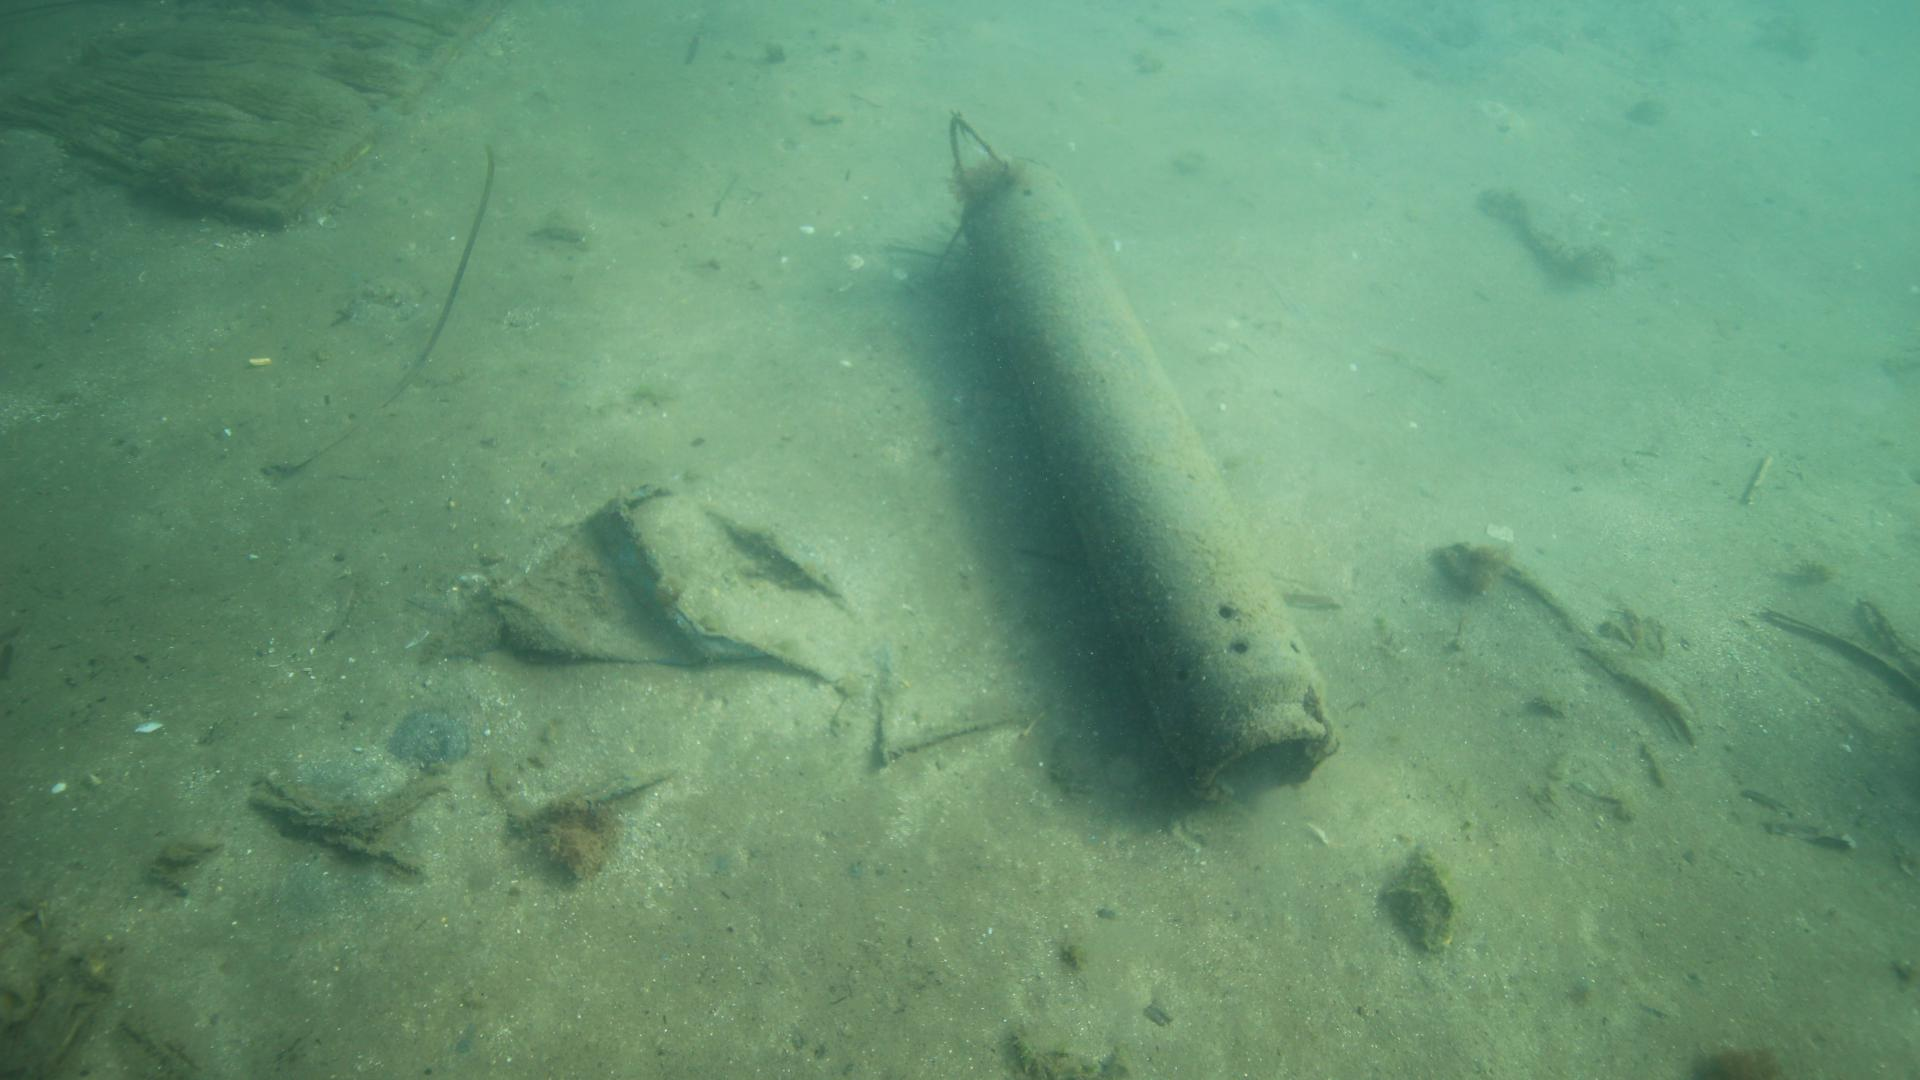eel fish trap: (967, 154, 1344, 803)
rope: (944, 112, 1015, 173)
